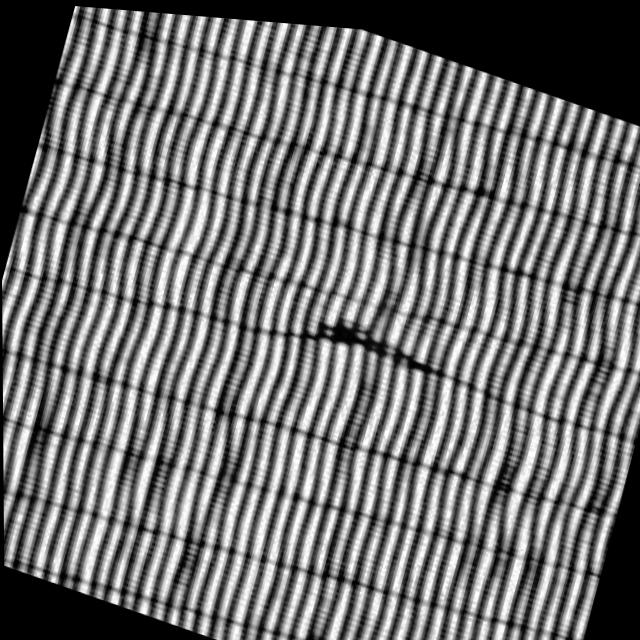Stitch: (255, 261, 479, 412)
